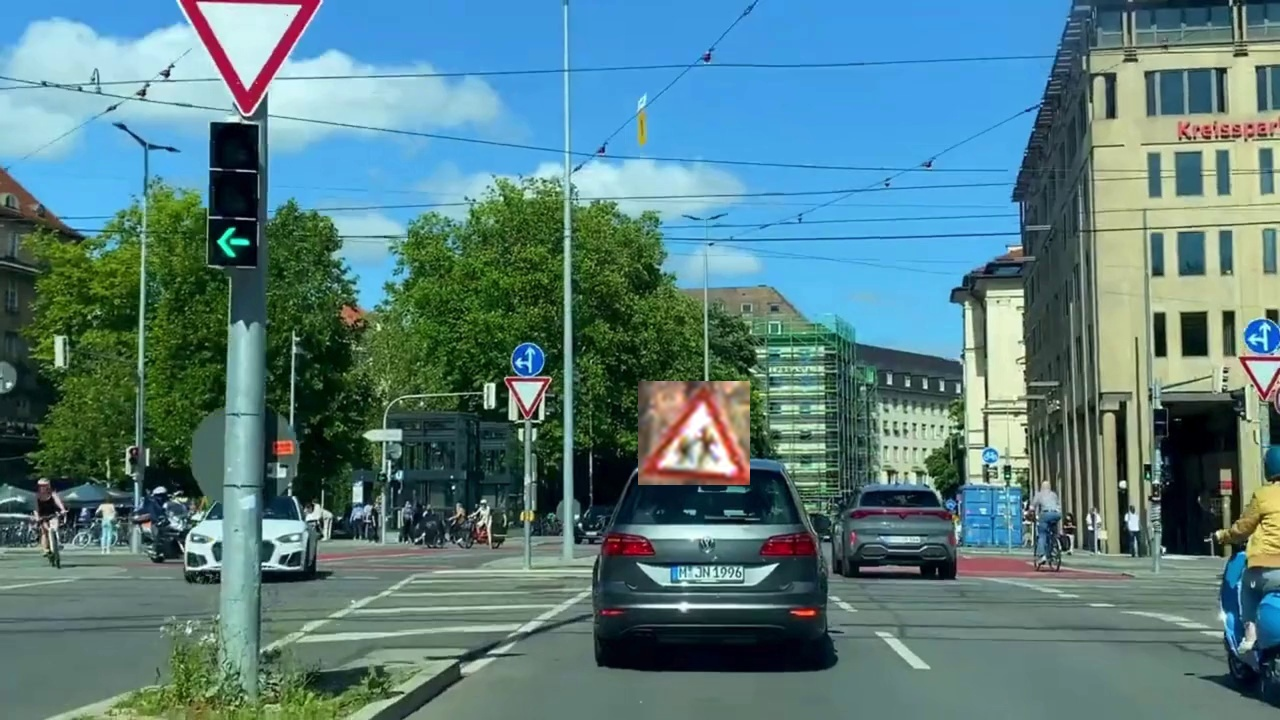Children: (638, 381, 750, 485)
